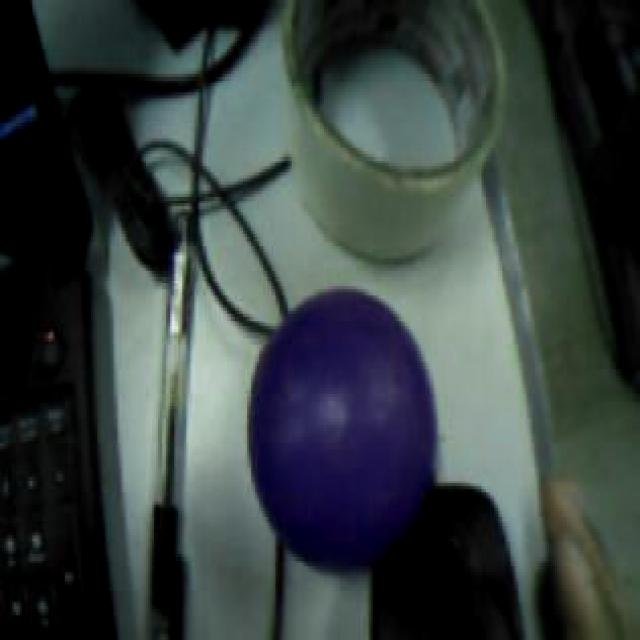BallPurple: (248, 290, 434, 575)
